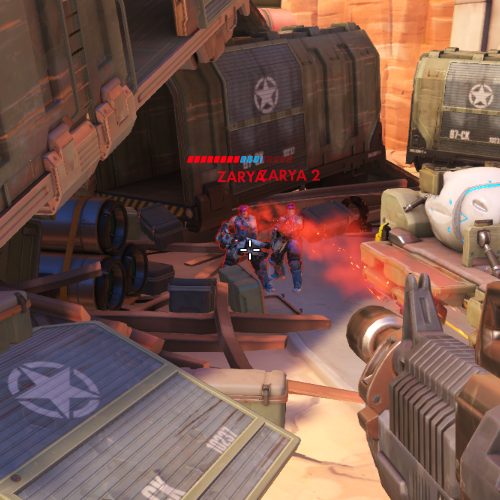hpbar: (186, 155, 294, 164)
